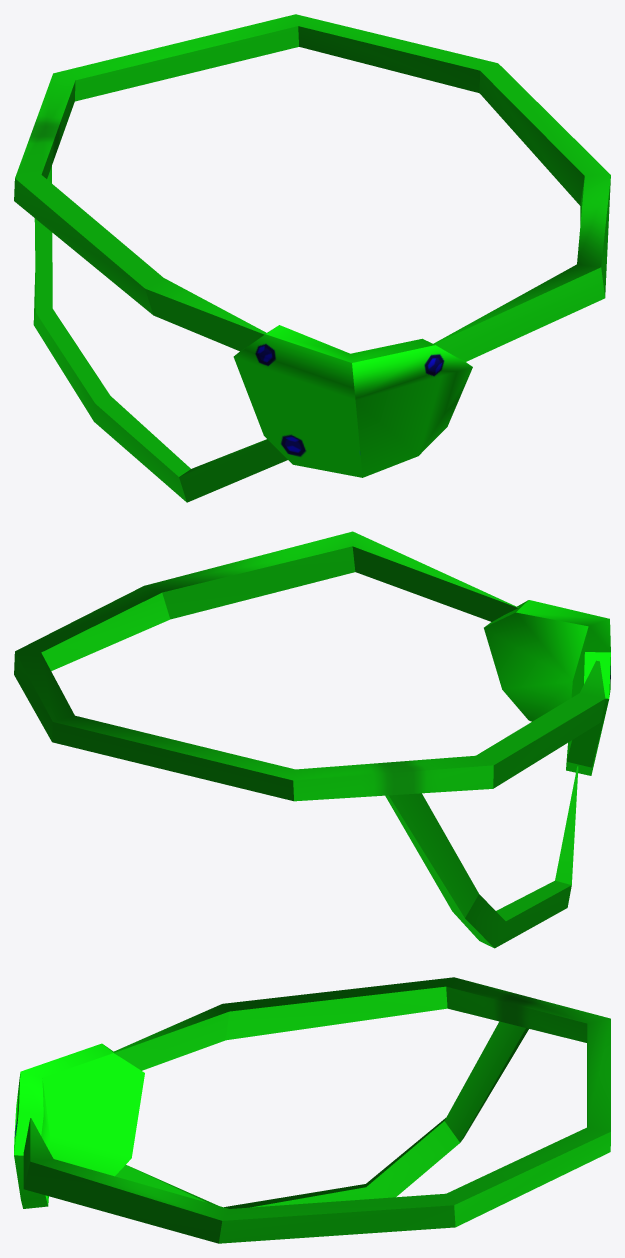
3 views of the same model, one above another, from view 1: azimuth 30°, elevation 25°; view 2: azimuth 150°, elevation 25°; view 3: azimuth 270°, elevation 25° (orthographic). The views are drawn at different scales.
Parts seen in each view (by area): view 1: Eyepatch_R; view 2: Eyepatch_R; view 3: Eyepatch_R.
Part boxes in pixels (x1,y1,x2,y2): Eyepatch_R: (14, 14, 610, 502); Eyepatch_R: (14, 531, 610, 948); Eyepatch_R: (14, 977, 610, 1243).
Size of the model in its own units: 0.2105 by 0.1087 by 0.2357.
Materials: 1 (1 with a texture image).
